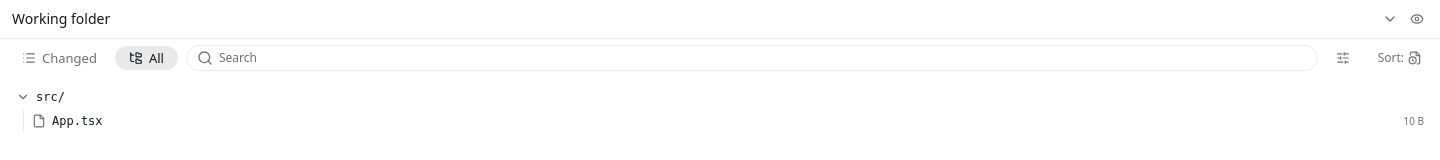
Test: FilesPanel tree (Explore) search › returns to the tree view when the search query is cleared
The width and height of the screenshot is (1440, 160).
Type "test" into the search field named "Search all files". click: (763, 58)
box: [219, 50, 1307, 66]
Wait 300 ms
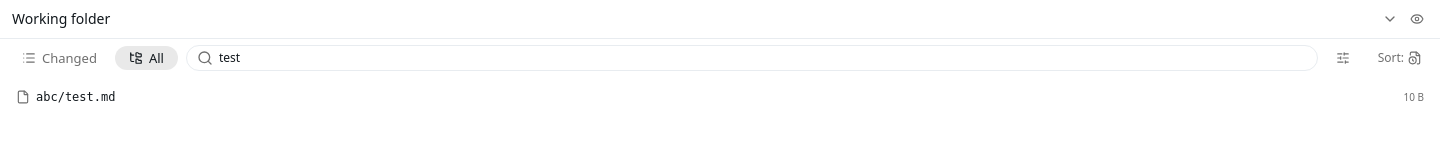
# Clear the query
Clear the search field named "Search all files". click: (763, 58)
box: [219, 50, 1307, 66]
Wait 300 ms
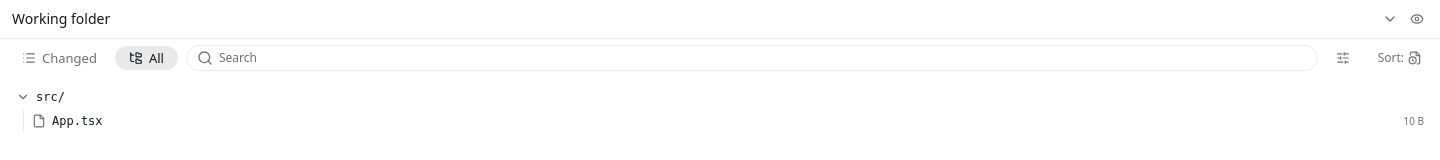
expect the button "src/" is shown: met, box [8, 85, 1432, 109]
expect the button "abc/test.md" is gone: met
